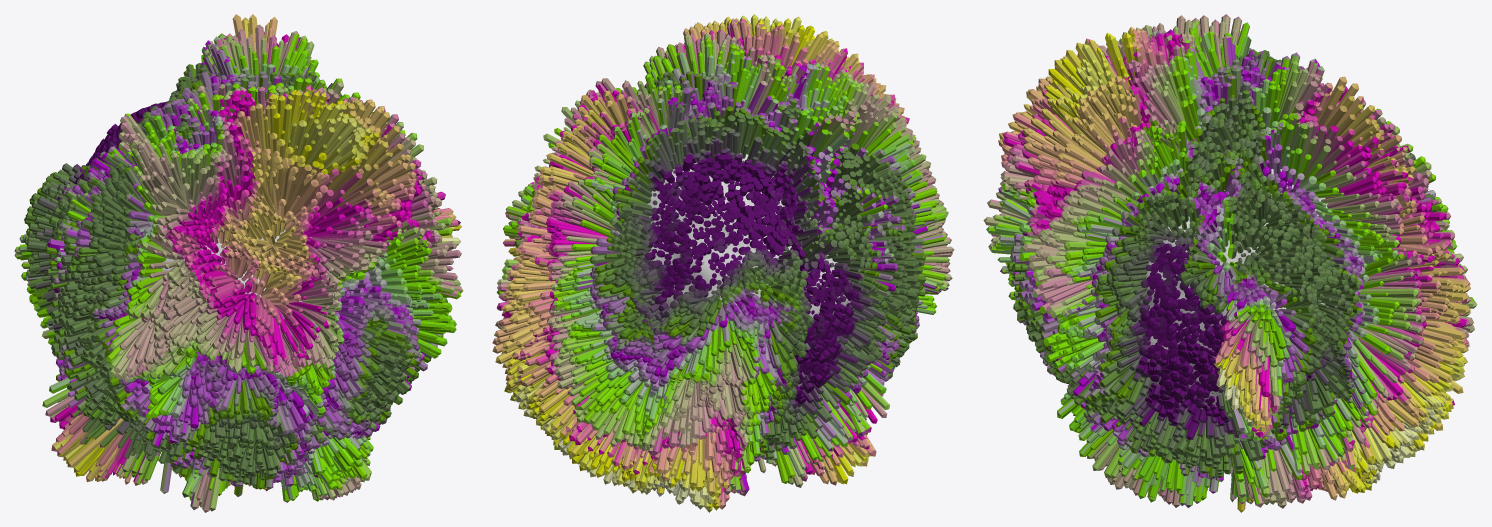
File: newBrain.glb
3 renders of one model, left to right at view 1: azimuth 30°, elevation 25°; view 2: azimuth 150°, elevation 25°; view 3: azimuth 270°, elevation 25°, orthographic. The views are drawn at different scales.
Visible parts, largest first — view 1: Brain; view 2: Brain, BrainCore; view 3: Brain, BrainCore.
Part boxes in pixels (box(x1,y1,x2,y2)): Brain: box(14, 14, 463, 512); Brain: box(492, 14, 954, 512); BrainCore: box(614, 153, 869, 386); Brain: box(983, 14, 1477, 512); BrainCore: box(1135, 169, 1360, 411).
Bounding box in the file's own units: 2.72 × 2.88 × 2.78.
